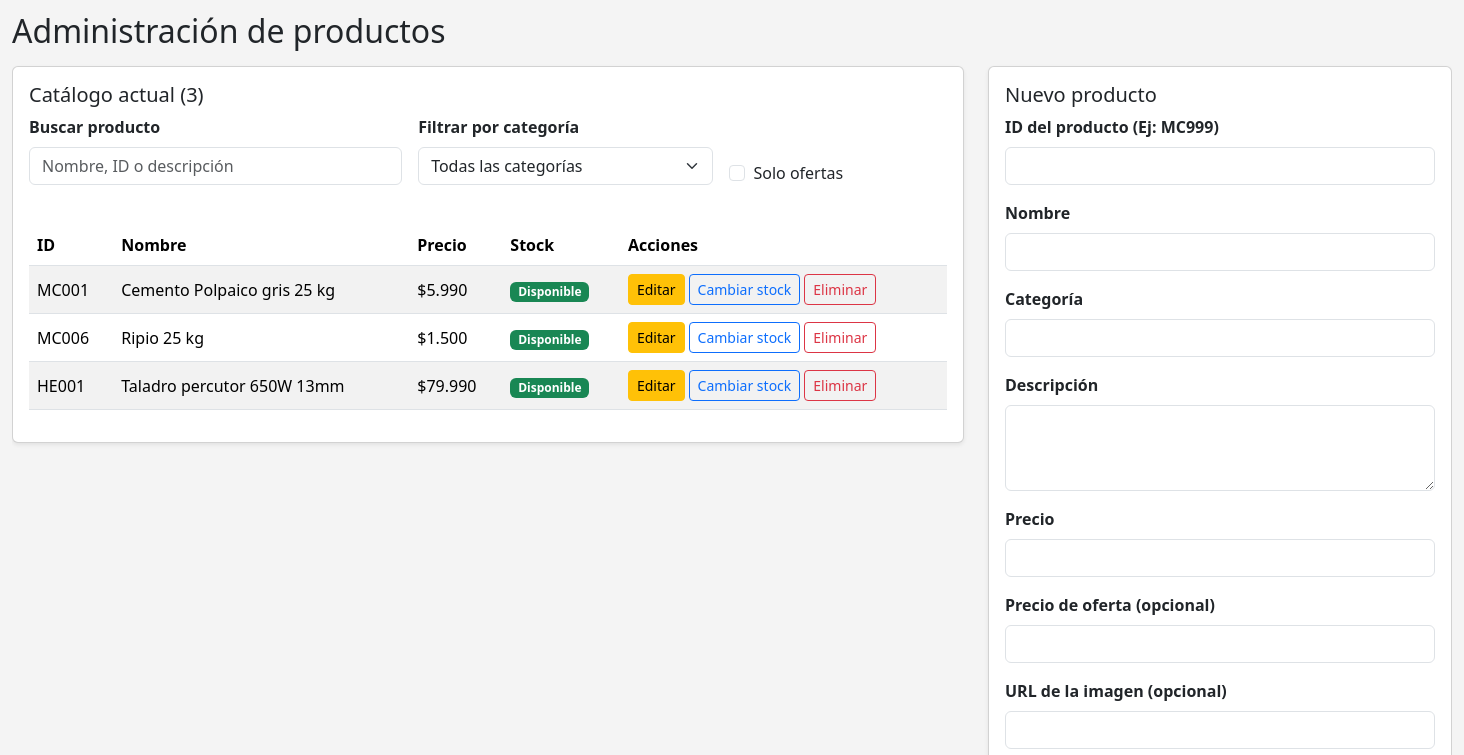
Test: AdminProductos › DELETE con confirmación
Click the button with aria-label "Eliminar Ripio 25 kg" at (840, 338), box top-left (804, 322), bottom-right (876, 353)
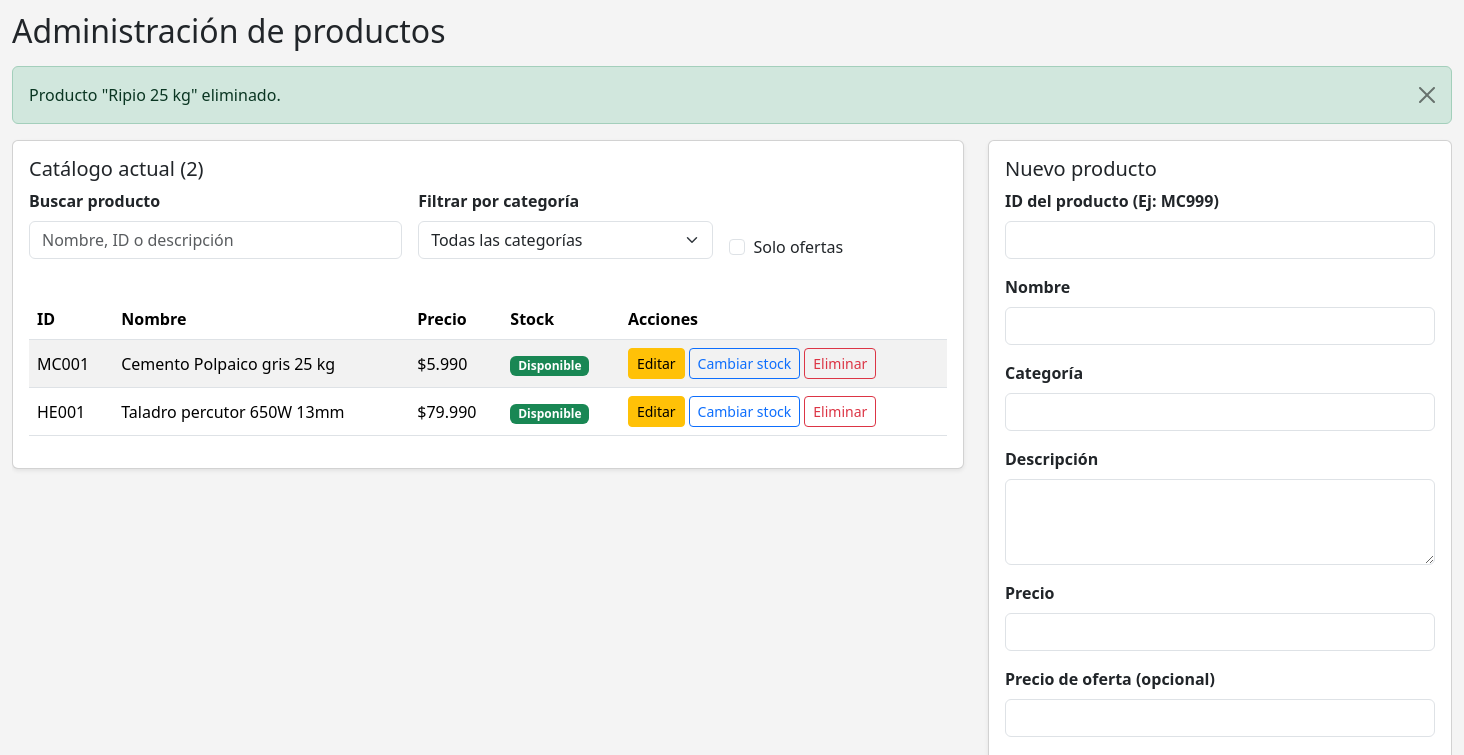
Now the text "MC006" is gone
